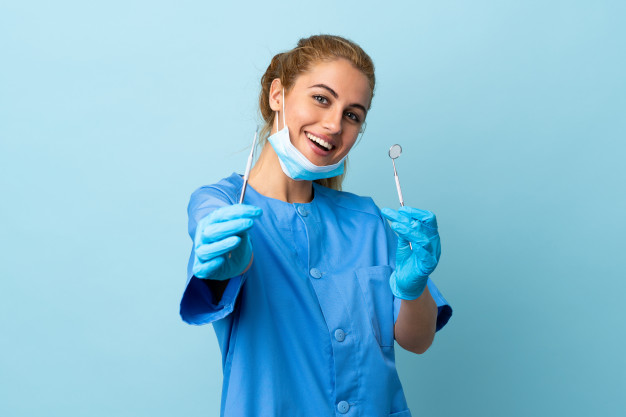mask_weared_incorrect: (259, 72, 376, 186)
